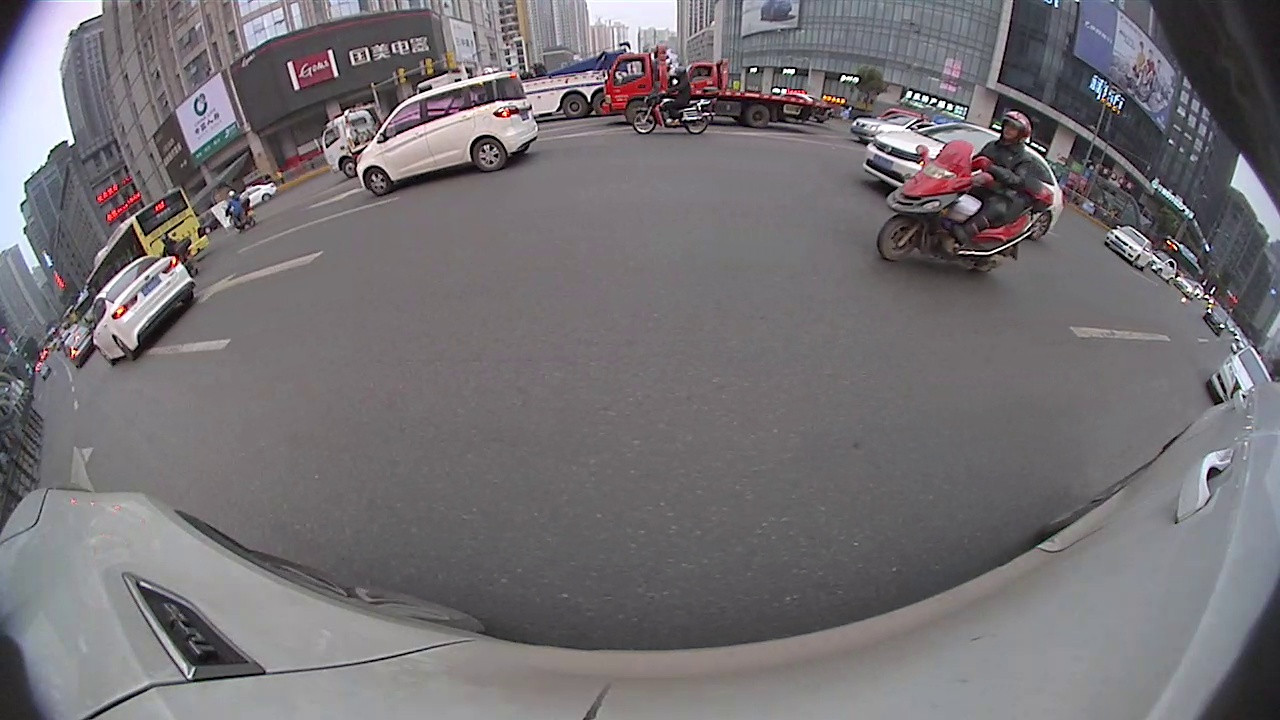bus: (86, 183, 208, 302)
car: (874, 114, 1066, 236), (354, 71, 537, 198), (86, 249, 203, 369), (1208, 347, 1273, 412), (1110, 227, 1157, 271)
front: (877, 208, 923, 265), (364, 167, 395, 198), (631, 108, 660, 135), (339, 157, 359, 178)
rear: (468, 135, 507, 174), (1027, 209, 1052, 241), (744, 103, 773, 129), (682, 113, 711, 137), (591, 90, 611, 119), (113, 337, 137, 361)
rider: (867, 106, 1053, 276), (634, 70, 714, 139), (231, 189, 254, 236)
truck: (601, 53, 828, 141)
